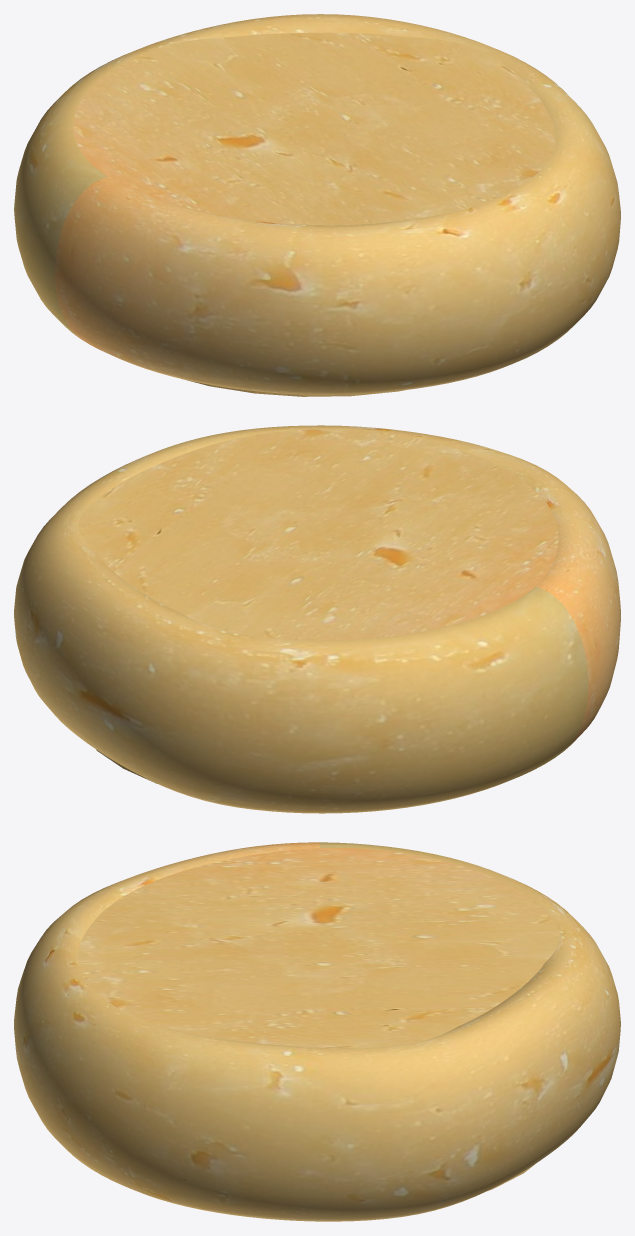
Rendered from Cheese.obj.
The picture shows the model from 3 angles, top to bottom: view 1: azimuth 30°, elevation 25°; view 2: azimuth 150°, elevation 25°; view 3: azimuth 270°, elevation 25°; orthographic projection. The views are drawn at different scales.
Visible parts, largest first — view 1: Torus.001, Cylinder; view 2: Torus.001, Cylinder; view 3: Torus.001, Cylinder.
Part boxes in pixels (left/top/right/bottom): Torus.001: left=14, top=14, right=620, bottom=394; Cylinder: left=73, top=32, right=555, bottom=396; Torus.001: left=14, top=425, right=620, bottom=813; Cylinder: left=78, top=429, right=558, bottom=783; Torus.001: left=14, top=842, right=620, bottom=1221; Cylinder: left=77, top=848, right=559, bottom=1190.
Bounding box in the file's own units: 2.44 × 0.7728 × 2.47.
Materials: 2 (2 with a texture image).
